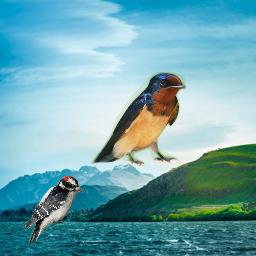Swallow: (91, 72, 186, 167)
Woodpecker: (25, 176, 86, 246)
